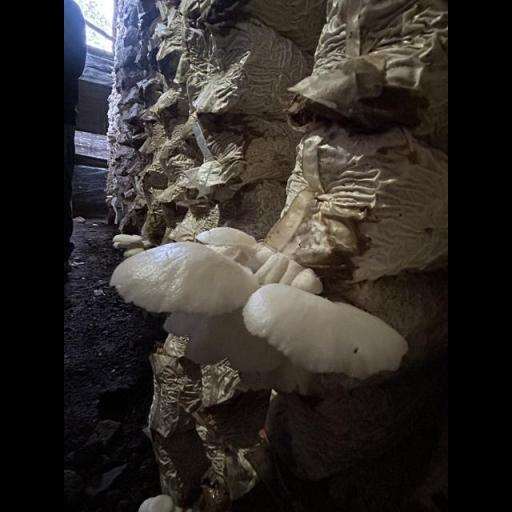White Oyster Mushroom: (110, 225, 409, 401)
